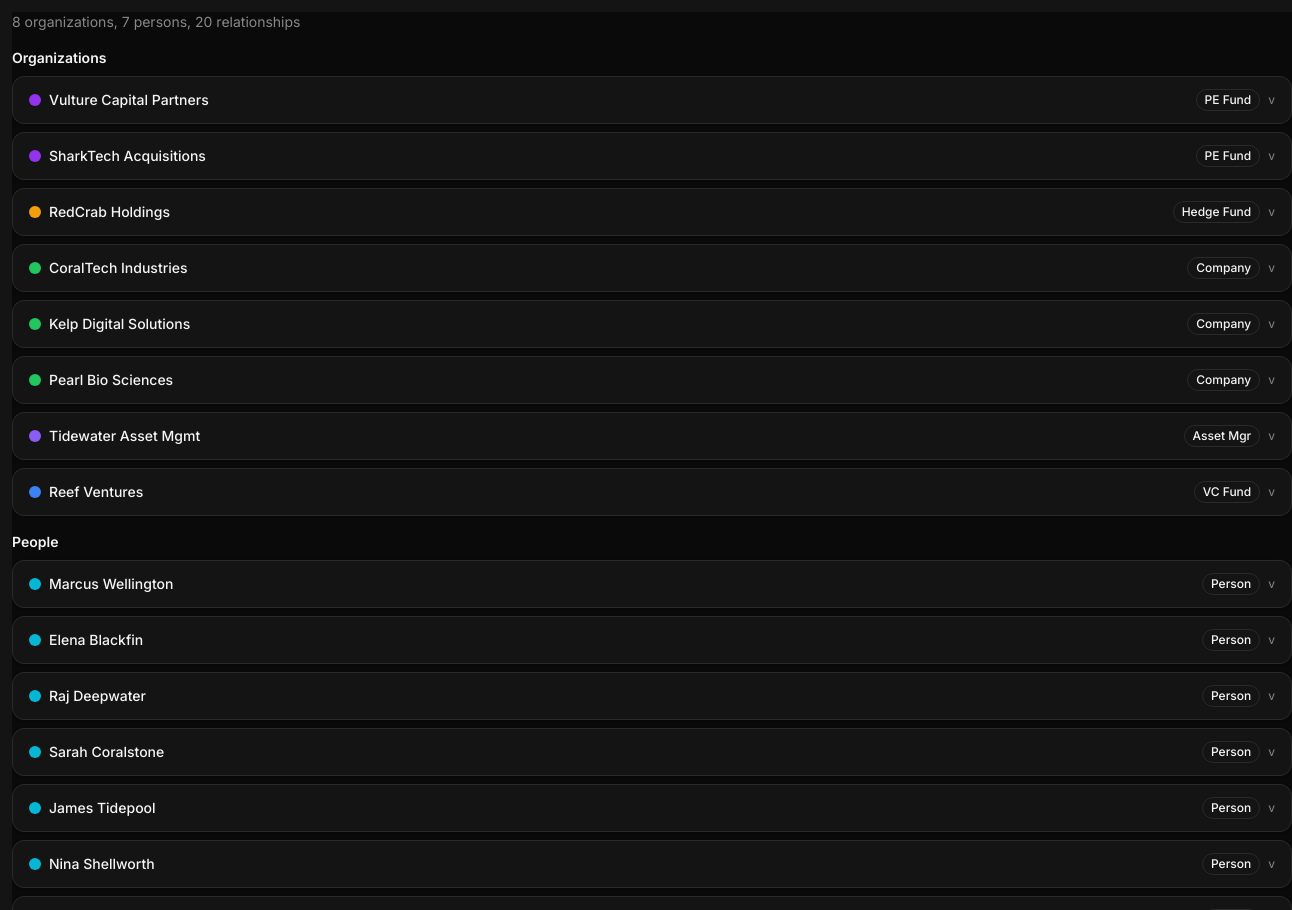
Scenario: MobileFallback › expands node to show relationships on click
// Click first org node to expand
Click the text "Vulture Capital Partners".
click(129, 100)  # box [49,90,209,110]
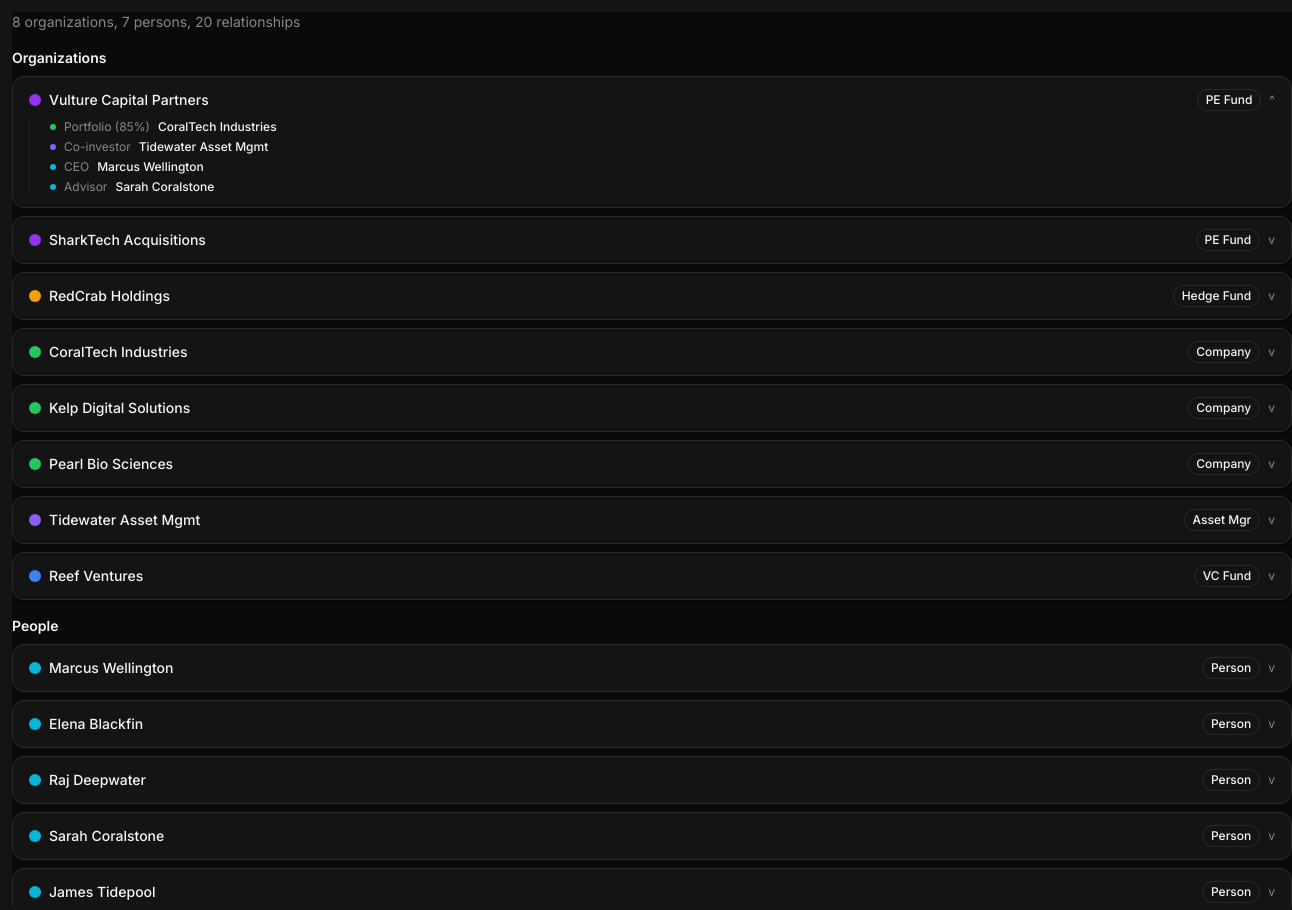
Check: the text "Portfolio (85%)" is shown, box [64,119,150,135]
Check: the text "Co-investor" is shown, box [64,139,131,155]
Check: the text "CEO" is shown, box [64,159,89,175]
